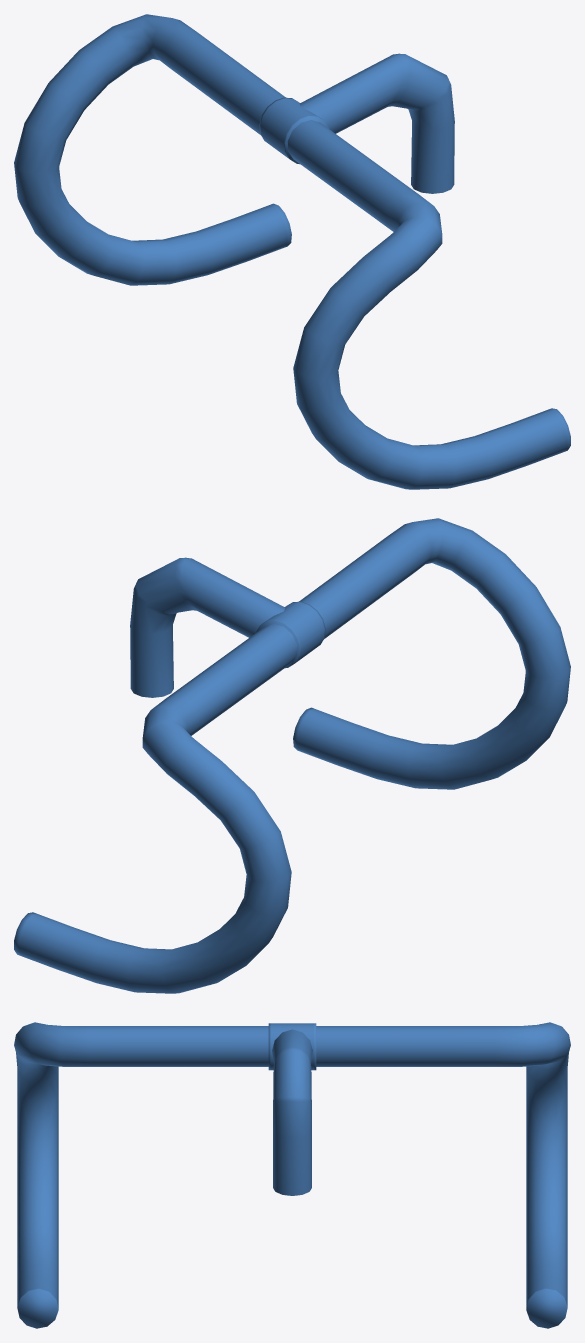
The model's file is dropbarBlue.gltf.
3 renders of one model, top to bottom at view 1: azimuth 30°, elevation 25°; view 2: azimuth 150°, elevation 25°; view 3: azimuth 270°, elevation 25°, orthographic. The views are drawn at different scales.
Parts seen in each view (by area): view 1: HANDLEBAR; view 2: HANDLEBAR; view 3: HANDLEBAR.
Part boxes in pixels (x1,y1,x2,y2): HANDLEBAR: (14,14,570,489); HANDLEBAR: (14,518,570,993); HANDLEBAR: (14,1022,570,1328).
Size of the model in its own units: 0.4962 by 0.4933 by 0.8894.
